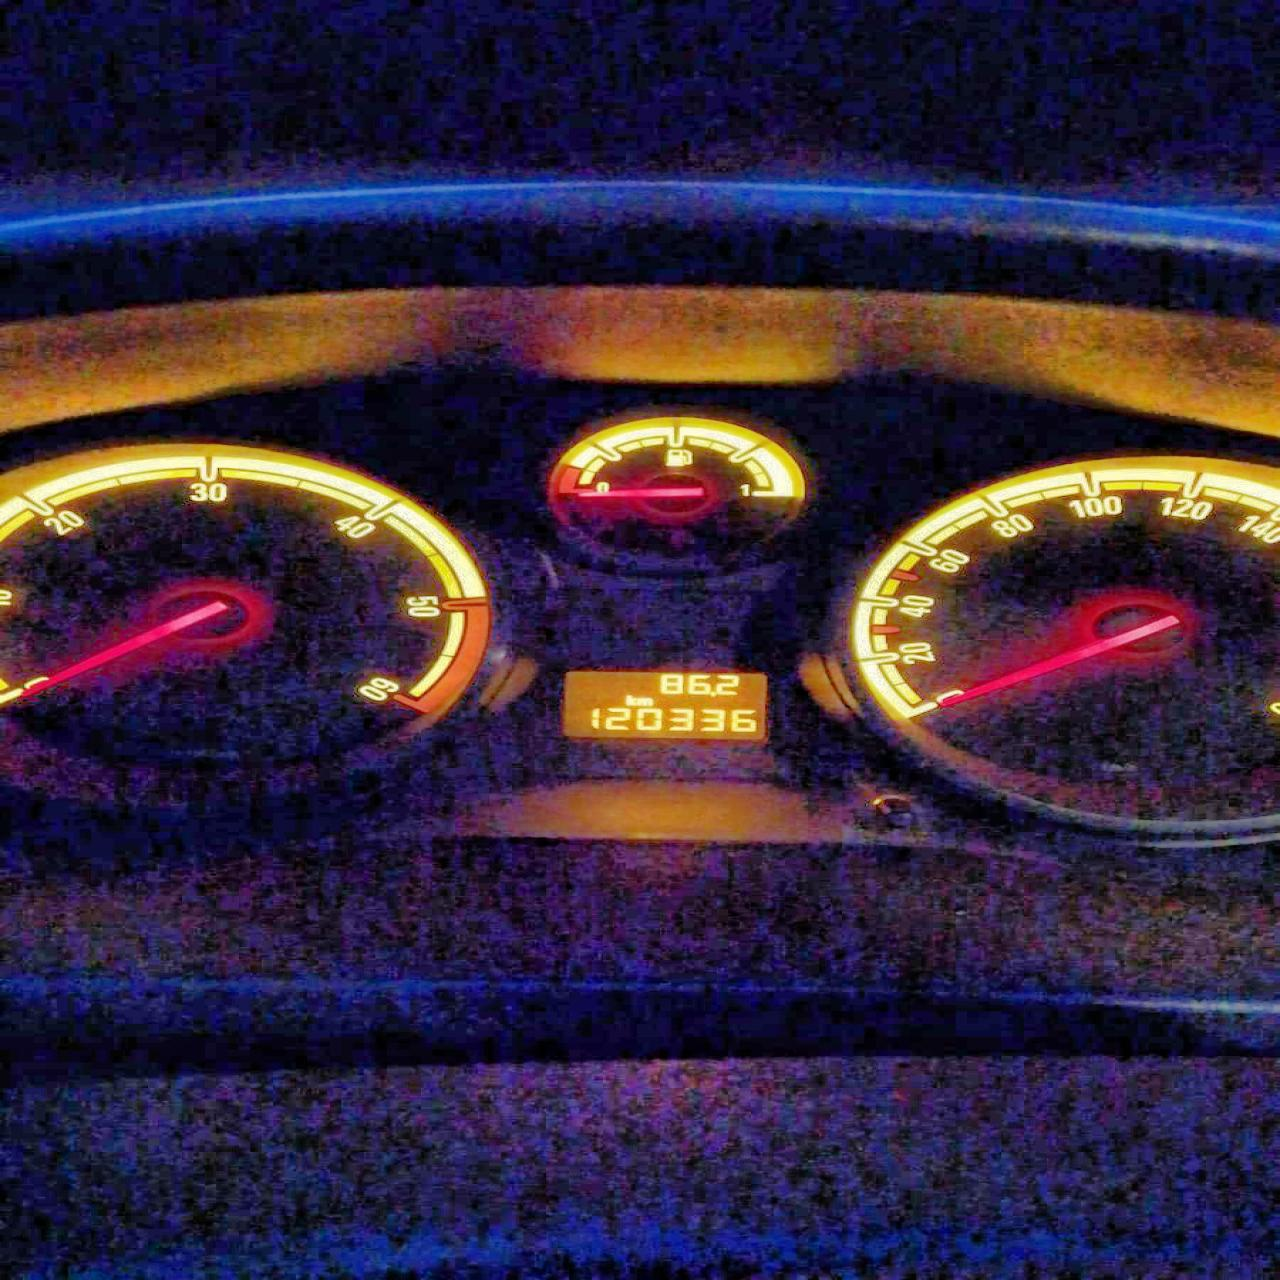-: (708, 690, 716, 696)
0: (634, 707, 661, 730)
1: (588, 707, 599, 729)
2: (602, 707, 632, 730), (714, 674, 738, 695)
3: (667, 708, 694, 730), (699, 709, 726, 731)
6: (728, 709, 757, 731), (686, 674, 712, 694)
8: (659, 674, 682, 694)
X: (622, 694, 636, 706), (636, 696, 653, 706)
odometer: (558, 669, 769, 742)
